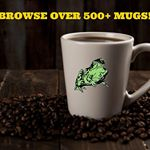cups: (58, 28, 150, 122)
